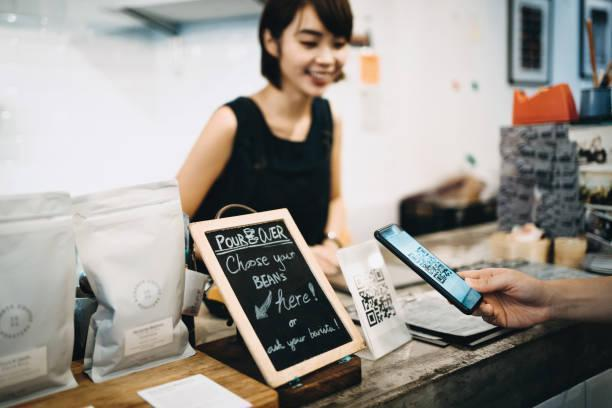qr_code: (353, 267, 397, 328), (407, 246, 453, 284)
